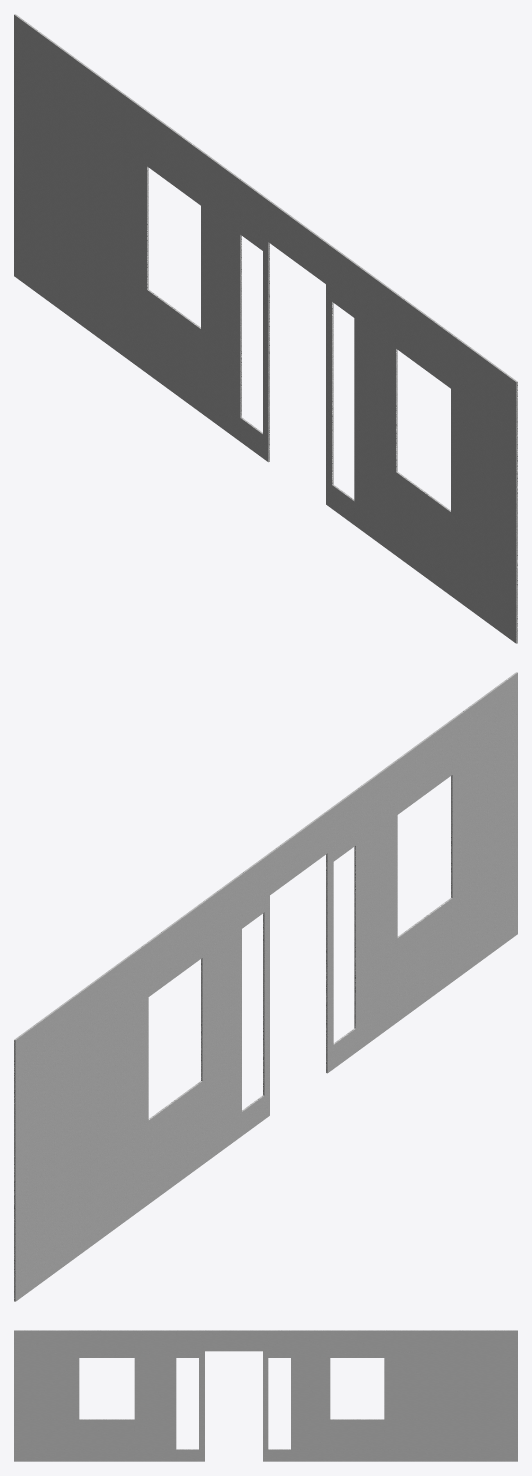
The model's file is wall4.fbx.
3 views of the same model, one above another, from view 1: azimuth 30°, elevation 25°; view 2: azimuth 150°, elevation 25°; view 3: azimuth 270°, elevation 25° (orthographic). The views are drawn at different scales.
Visible parts, largest first — view 1: polySurface51; view 2: polySurface51; view 3: polySurface51.
Boxes of the visible parts, x1,y1,x2,y2 form: polySurface51: (14, 14, 517, 643); polySurface51: (14, 672, 517, 1301); polySurface51: (14, 1330, 517, 1461).
Size of the model in its own units: 0.02 by 3 by 10.44.
1 material, 1 textured.
